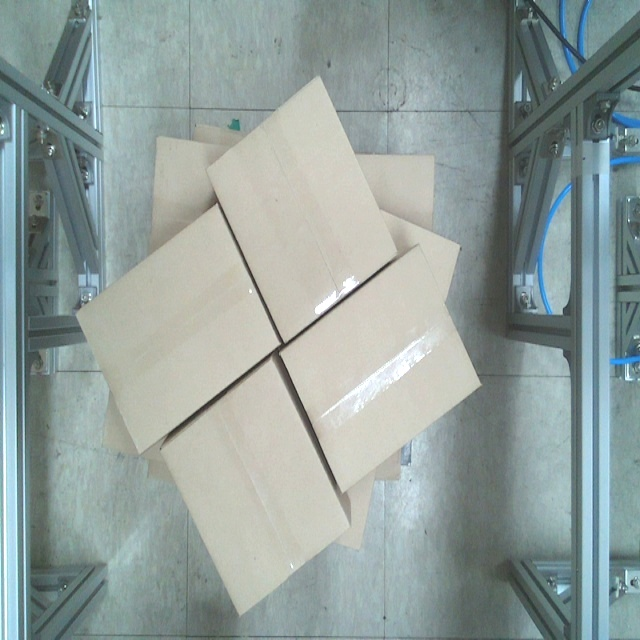box: (73, 195, 283, 463), (202, 71, 401, 347), (279, 237, 485, 499), (158, 352, 353, 619)
